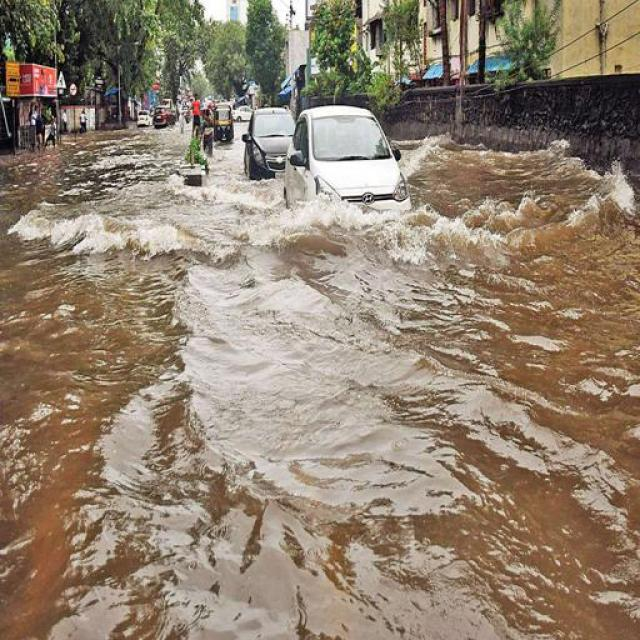puddle: (14, 238, 636, 637), (428, 147, 634, 633), (45, 148, 174, 640), (291, 218, 421, 632), (183, 190, 283, 640)
